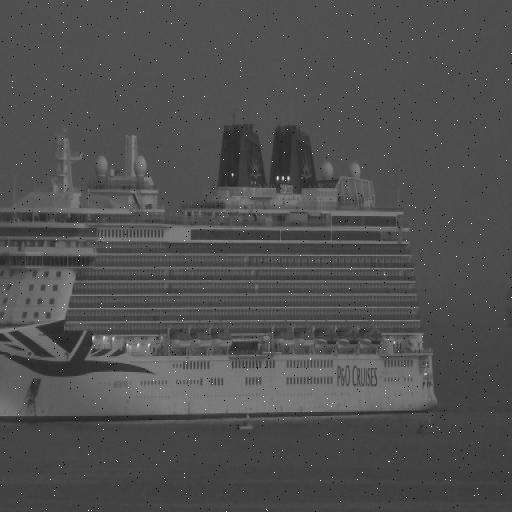cruises: (1, 112, 445, 430)
